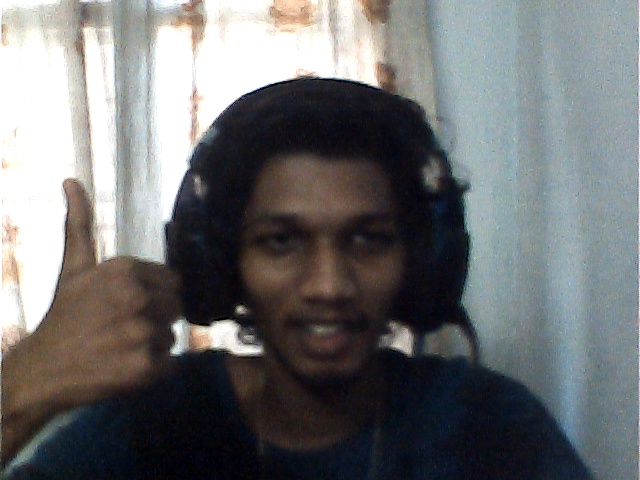ThumbsUp: (49, 178, 181, 395)
